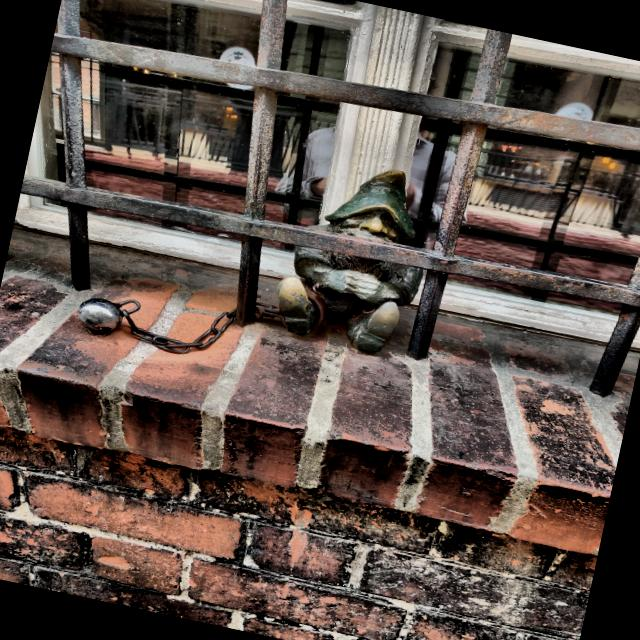Wiezien: (254, 246, 422, 353), (77, 297, 238, 354), (321, 171, 413, 242)
